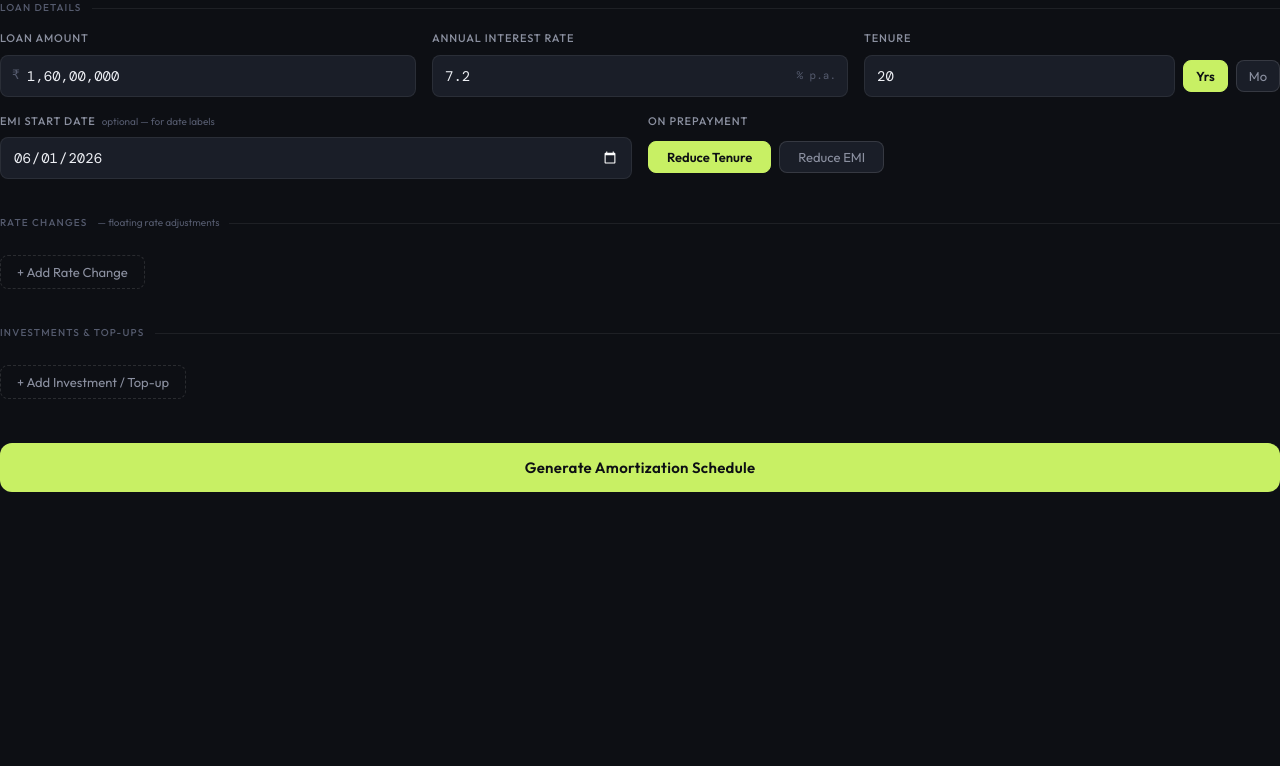
Test: AmortizationPage — results › shows primary metric cards
Click the button "Generate Amortization Schedule" at (640, 468), box [0, 443, 1279, 492]
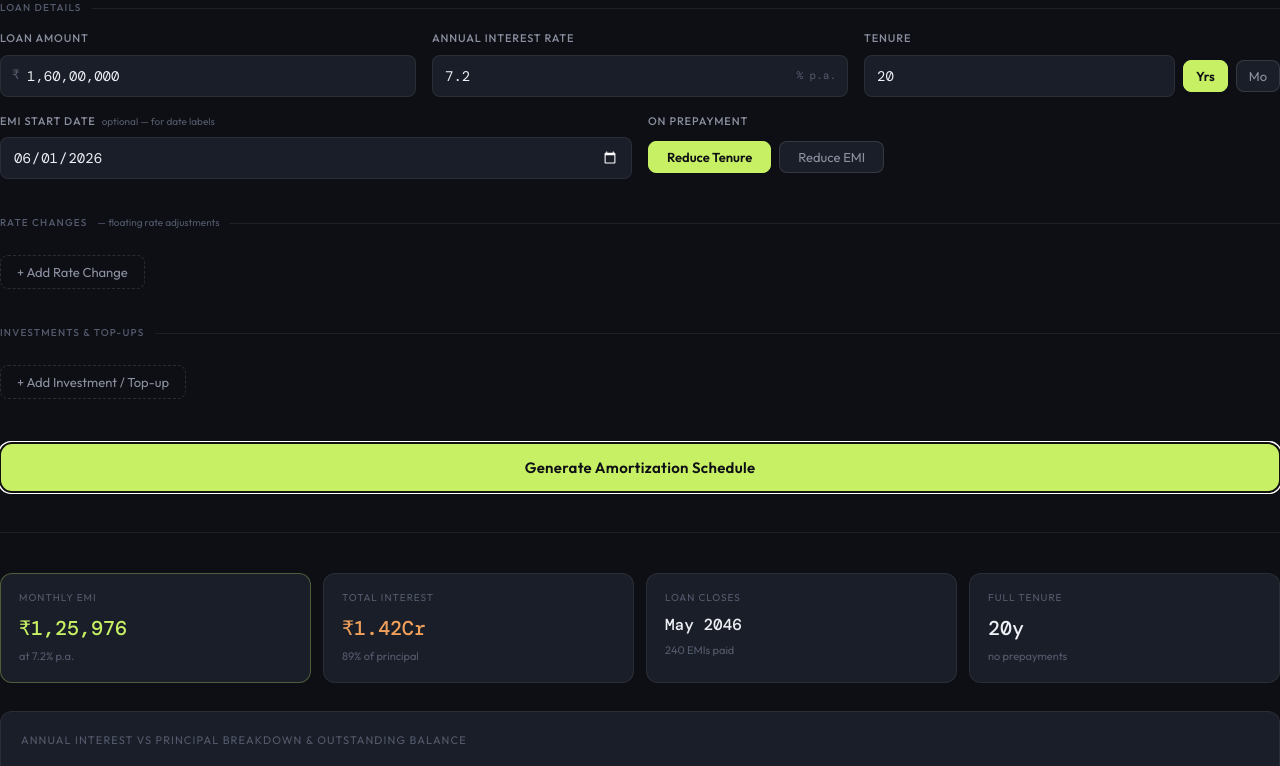
Expected: the text "Monthly EMI" is shown, [19, 591, 97, 604]
Expected: the text "Total Interest" is shown, [342, 591, 434, 604]
Expected: the text "Loan Closes" is shown, [665, 591, 741, 604]
